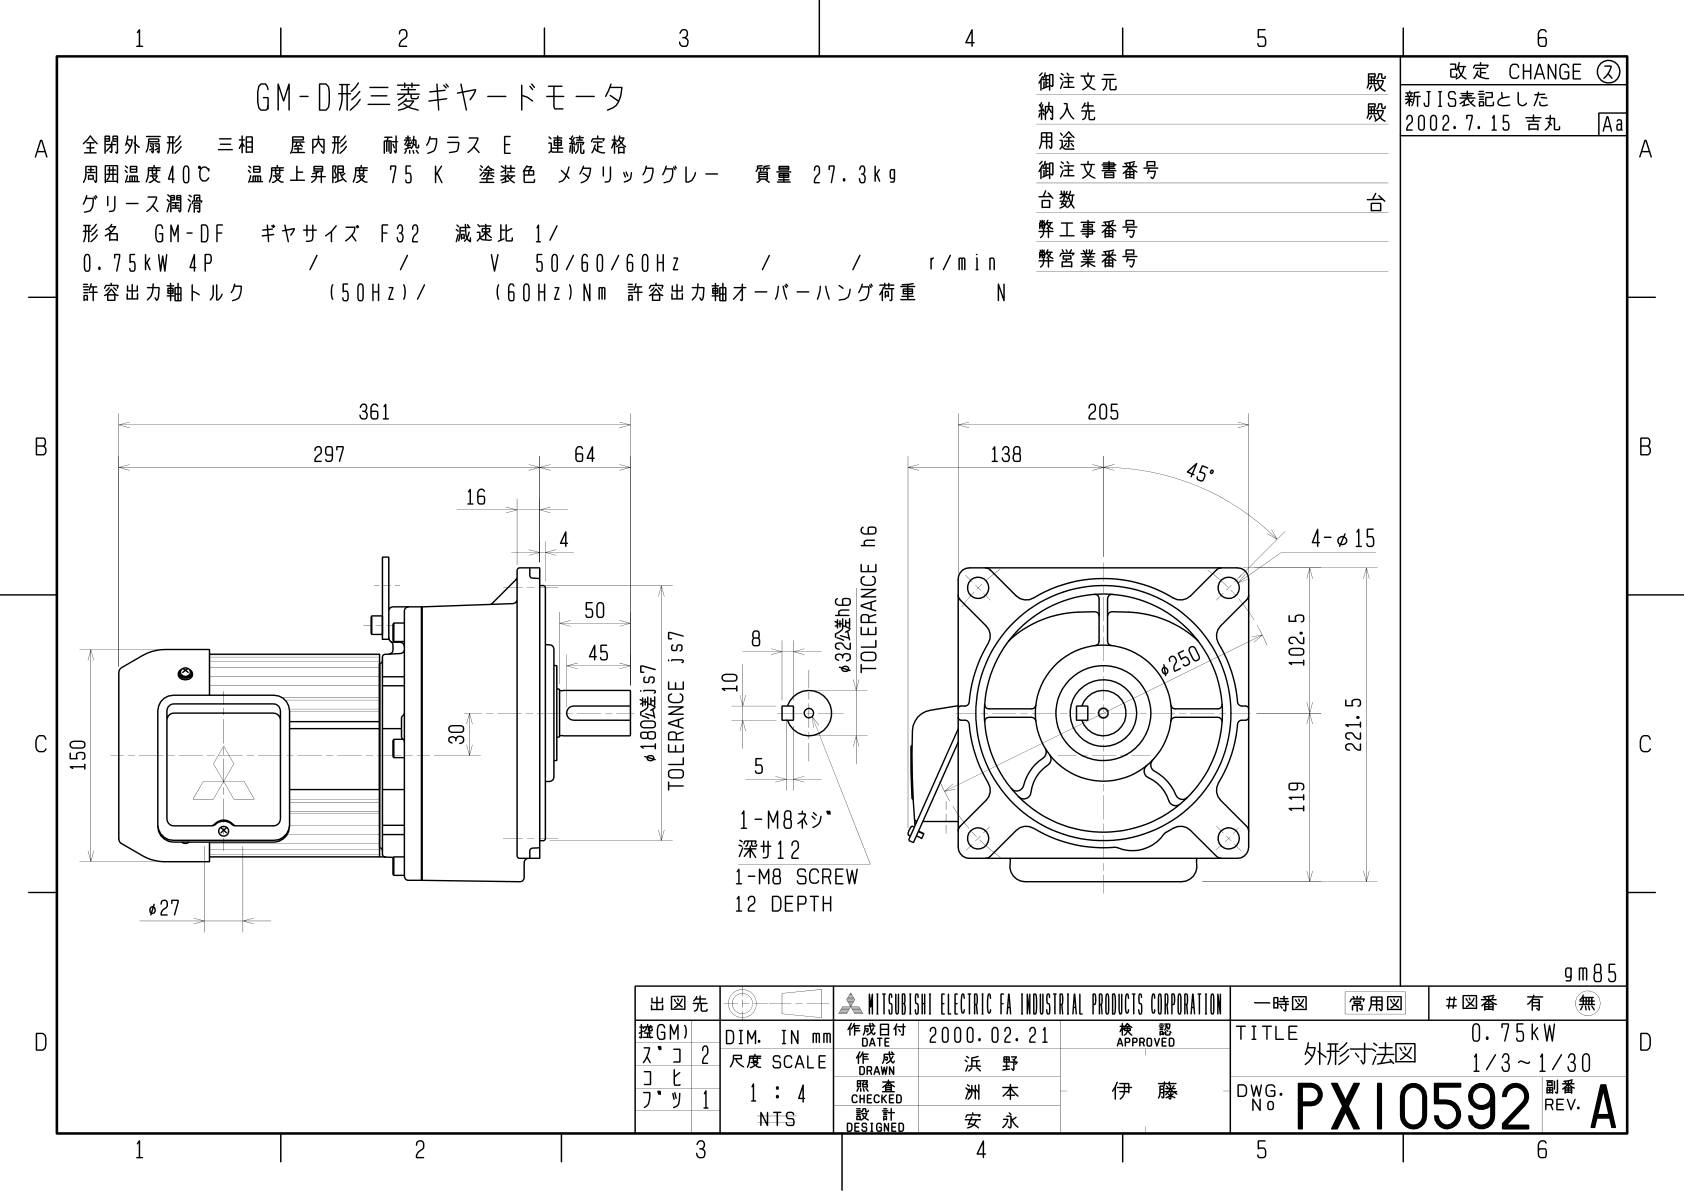GM_D_屋内＿三相_フランジ: (61, 336, 1397, 953)
